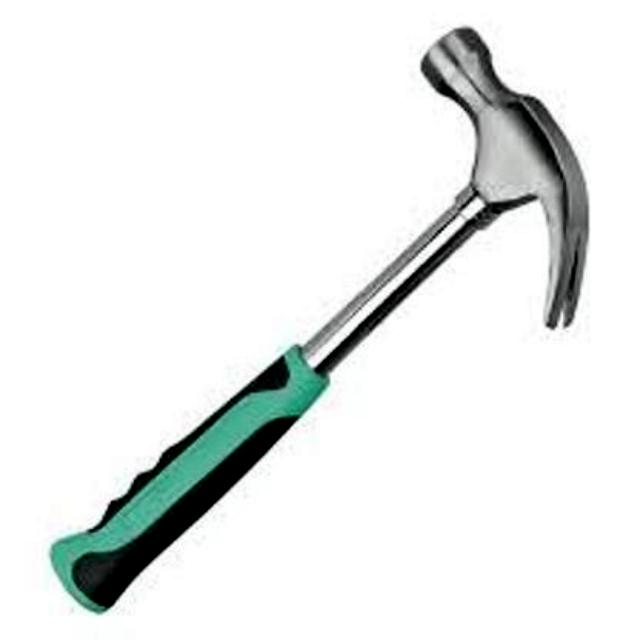hammer: (2, 25, 640, 640)
